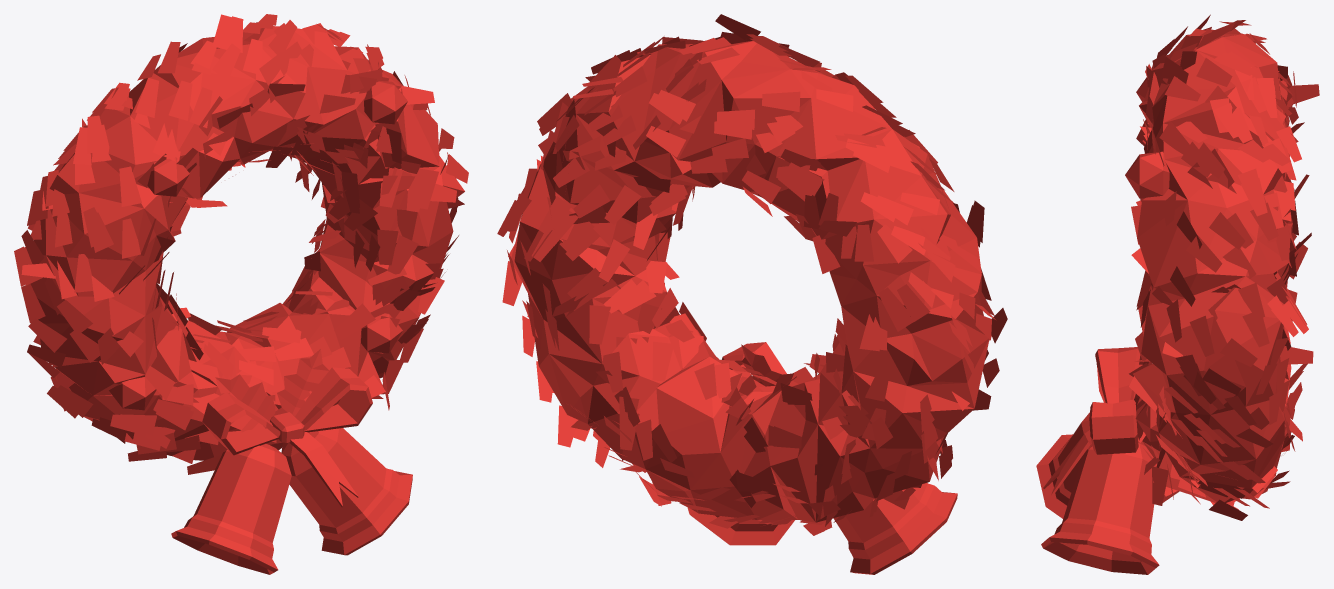
Rendered from SM_Wreath_Wall.fbx.
The picture shows the model from 3 angles, left to right: view 1: azimuth 30°, elevation 25°; view 2: azimuth 150°, elevation 25°; view 3: azimuth 270°, elevation 25°; orthographic projection. The views are drawn at different scales.
Parts seen in each view (by area): view 1: wreath-wall; view 2: wreath-wall; view 3: wreath-wall.
Part boxes in pixels (left/top/right/bottom): wreath-wall: left=14, top=14, right=468, bottom=574; wreath-wall: left=497, top=14, right=1007, bottom=574; wreath-wall: left=1036, top=14, right=1319, bottom=574.
Bounding box in the file's own units: 0.5754 × 0.6442 × 0.3138.
